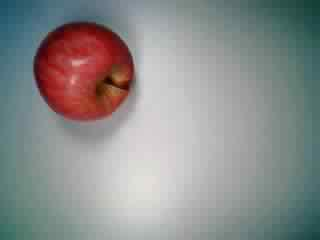apple: (31, 17, 134, 121)
